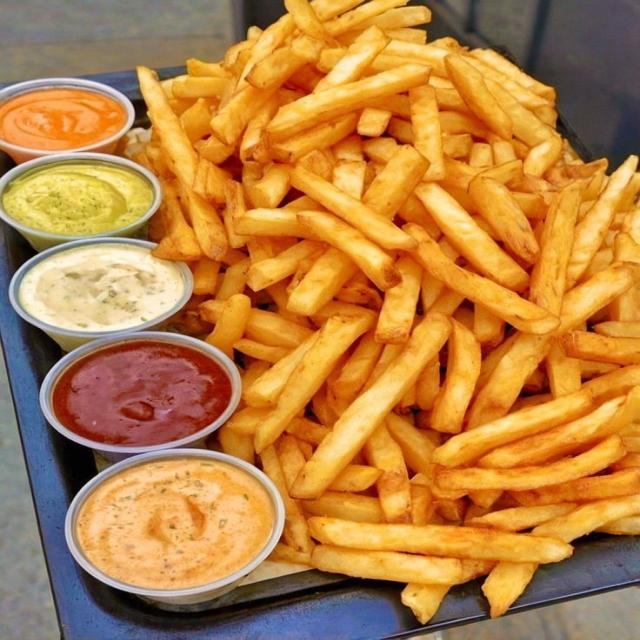potato fries: (136, 0, 639, 622)
